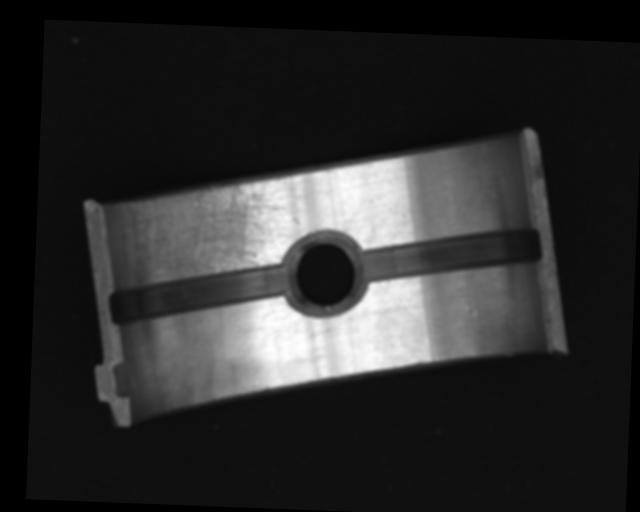gap: (105, 255, 290, 333), (364, 221, 544, 287)
hole: (280, 238, 364, 313)
scratch: (108, 174, 282, 292)
